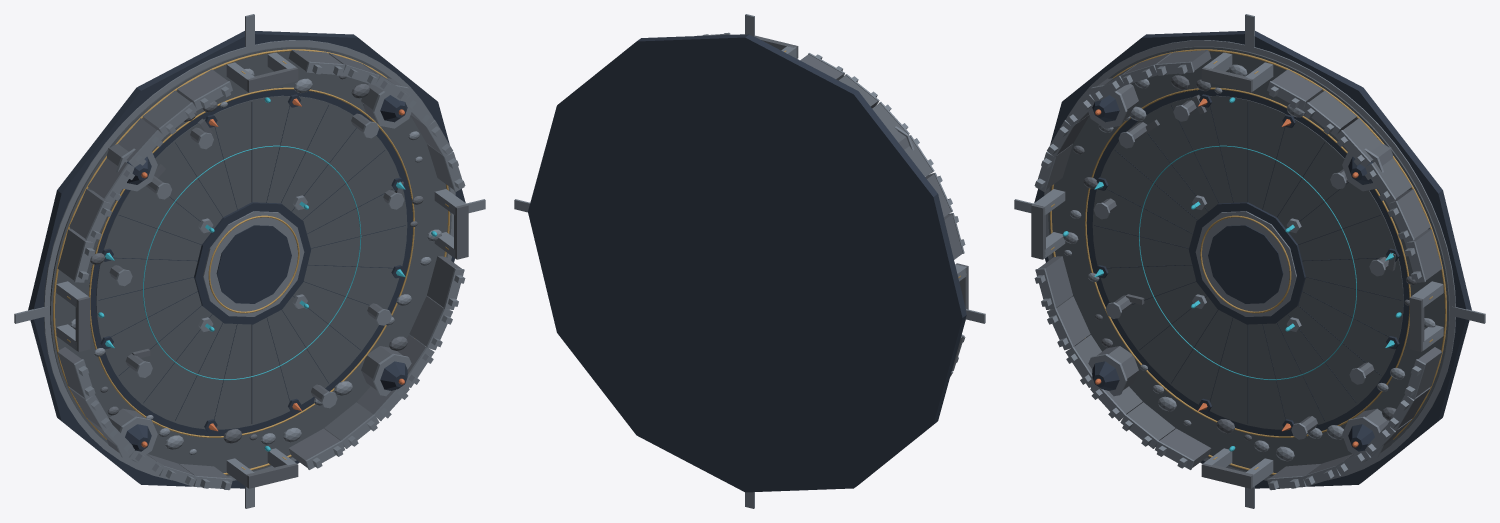
Rendered from boss_fortress.glb.
The picture shows the model from 3 angles, left to right: view 1: azimuth 30°, elevation 25°; view 2: azimuth 150°, elevation 25°; view 3: azimuth 330°, elevation 25°; orthographic projection.
Parts seen in each view (by area): view 1: Inner combat floor, Arena ground, Foundation broad plinth, Outer floor inlay, Outer foundation rim, Boss dais black heart, Boss dais upper step, Boss dais lower step, Outer brass inlay, Arena boundary subtle rim, Inner rune ring, Curtain wall segment 31 (+21 smaller); view 2: Foundation broad plinth; view 3: Inner combat floor, Arena ground, Foundation broad plinth, Outer floor inlay, Outer foundation rim, Boss dais black heart, Boss dais upper step, Boss dais lower step, Outer brass inlay, Arena boundary subtle rim, Inner rune ring, Curtain wall segment 18 (+21 smaller).
Part boxes in pixels (x1=…): Inner combat floor: x1=96, y1=95, x2=407, y2=429; Arena ground: x1=50, y1=46, x2=451, y2=476; Foundation broad plinth: x1=28, y1=31, x2=465, y2=488; Outer floor inlay: x1=89, y1=89, x2=412, y2=436; Outer foundation rim: x1=44, y1=40, x2=455, y2=480; Boss dais black heart: x1=216, y1=225, x2=291, y2=303; Boss dais upper step: x1=203, y1=211, x2=304, y2=316; Boss dais lower step: x1=194, y1=202, x2=311, y2=324; Outer brass inlay: x1=89, y1=87, x2=414, y2=437; Arena boundary subtle rim: x1=53, y1=49, x2=450, y2=474; Inner rune ring: x1=143, y1=145, x2=361, y2=380; Curtain wall segment 31: x1=427, y1=256, x2=461, y2=307; Foundation broad plinth: x1=528, y1=34, x2=966, y2=492; Inner combat floor: x1=1092, y1=95, x2=1403, y2=429; Arena ground: x1=1048, y1=46, x2=1449, y2=476; Foundation broad plinth: x1=1034, y1=31, x2=1471, y2=488; Outer floor inlay: x1=1086, y1=89, x2=1410, y2=436; Outer foundation rim: x1=1044, y1=40, x2=1455, y2=480; Boss dais black heart: x1=1208, y1=225, x2=1283, y2=303; Boss dais upper step: x1=1195, y1=211, x2=1296, y2=316; Boss dais lower step: x1=1188, y1=202, x2=1305, y2=324; Outer brass inlay: x1=1085, y1=87, x2=1410, y2=437; Arena boundary subtle rim: x1=1049, y1=49, x2=1446, y2=474; Inner rune ring: x1=1138, y1=145, x2=1356, y2=380; Curtain wall segment 18: x1=1038, y1=256, x2=1072, y2=307.
Size of the model in its own units: 58.4 by 58.4 by 6.45.
